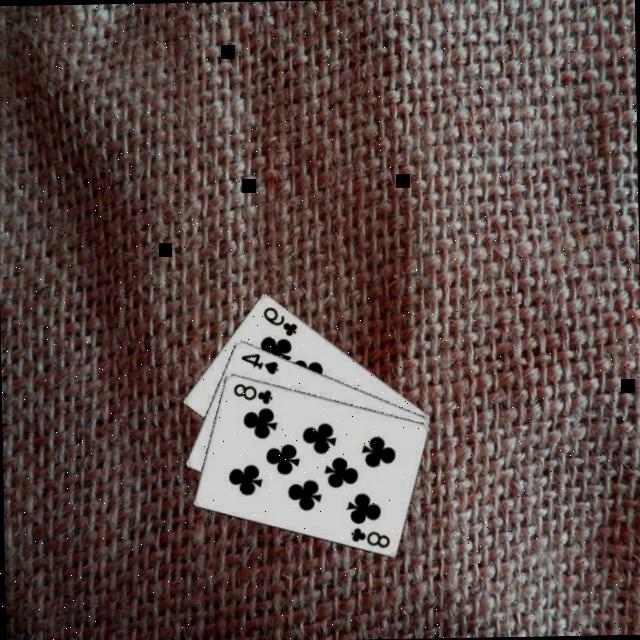4S: (239, 349, 281, 377)
8C: (231, 378, 277, 406), (350, 522, 394, 550)
9C: (261, 301, 302, 338)
